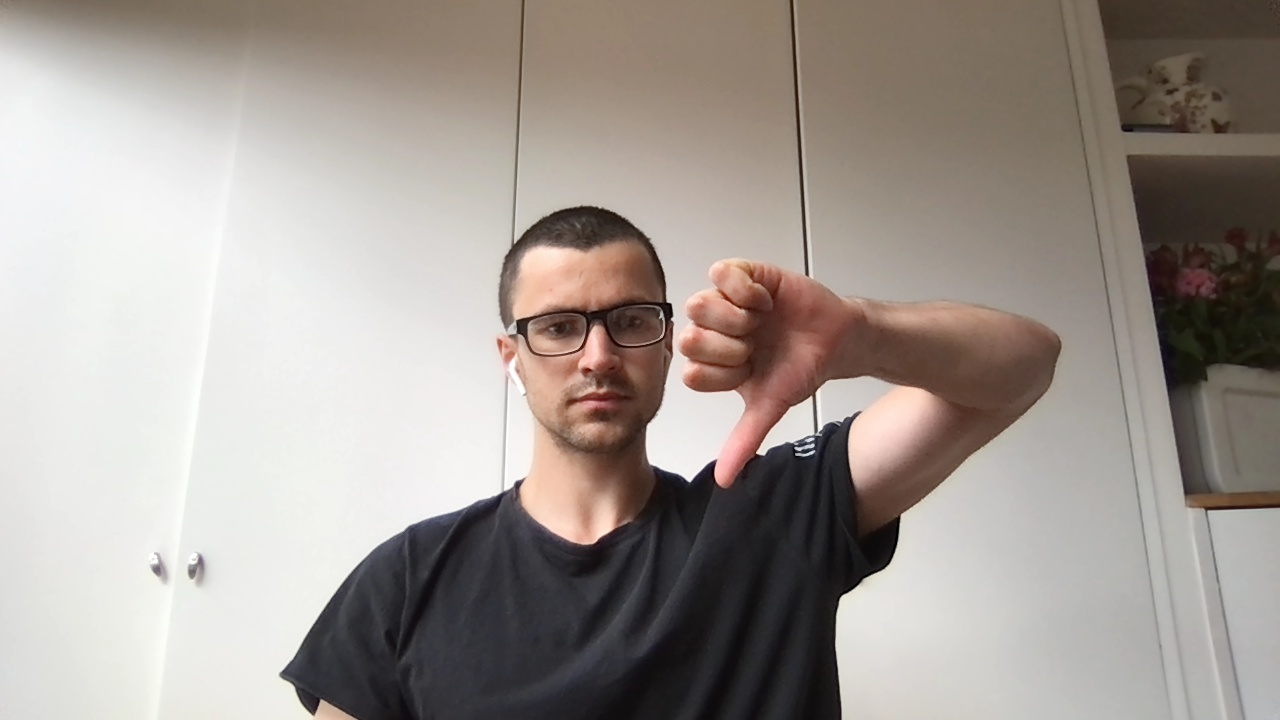thumbDown: (678, 257, 853, 489)
